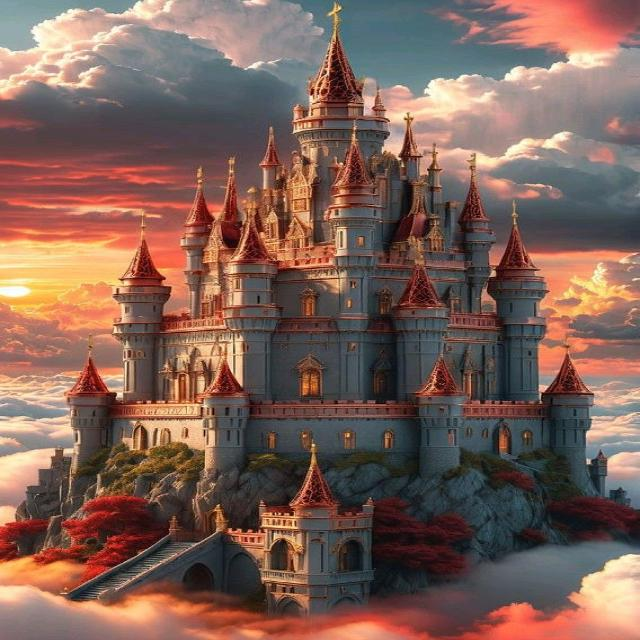castle: (48, 7, 597, 538)
